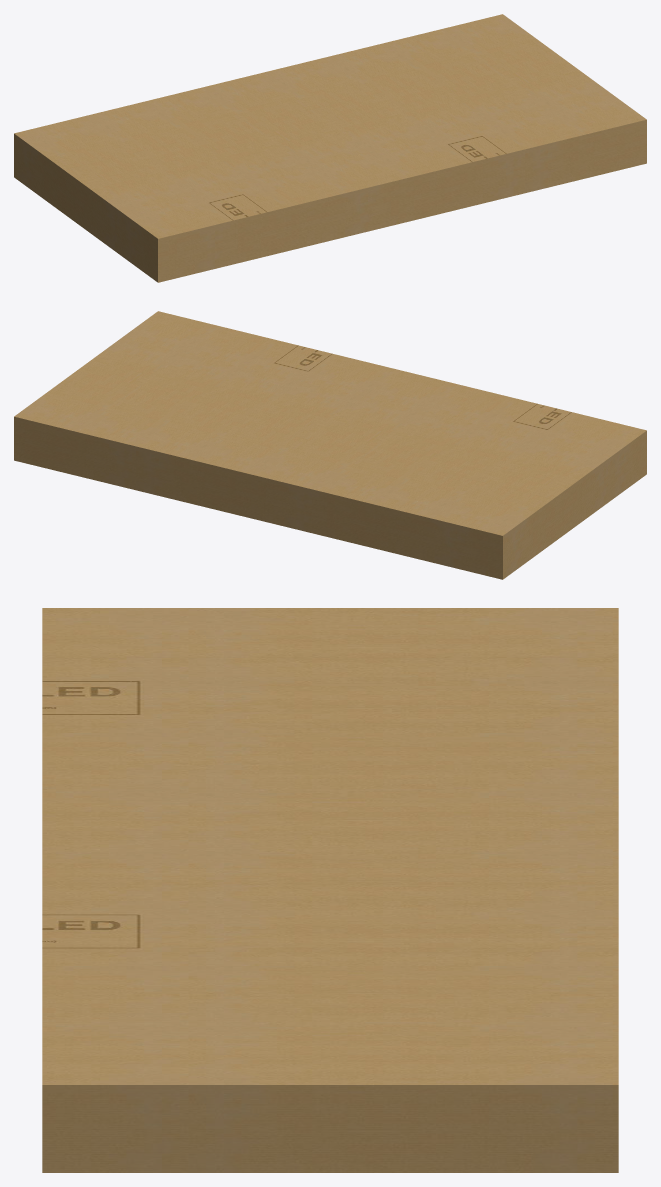
The picture shows the model from 3 angles, top to bottom: view 1: azimuth 30°, elevation 25°; view 2: azimuth 150°, elevation 25°; view 3: azimuth 270°, elevation 25°; orthographic projection. The views are drawn at different scales.
Visible parts, largest first — view 1: root_primitive1; view 2: root_primitive1; view 3: root_primitive1.
Part boxes in pixels (x1,y1,x2,y2): root_primitive1: [14, 14, 646, 282]; root_primitive1: [14, 311, 646, 579]; root_primitive1: [42, 608, 618, 1172].
Bounding box in the file's own units: 1.02 × 0.0877 × 0.5217.
2 materials, 2 textured.
